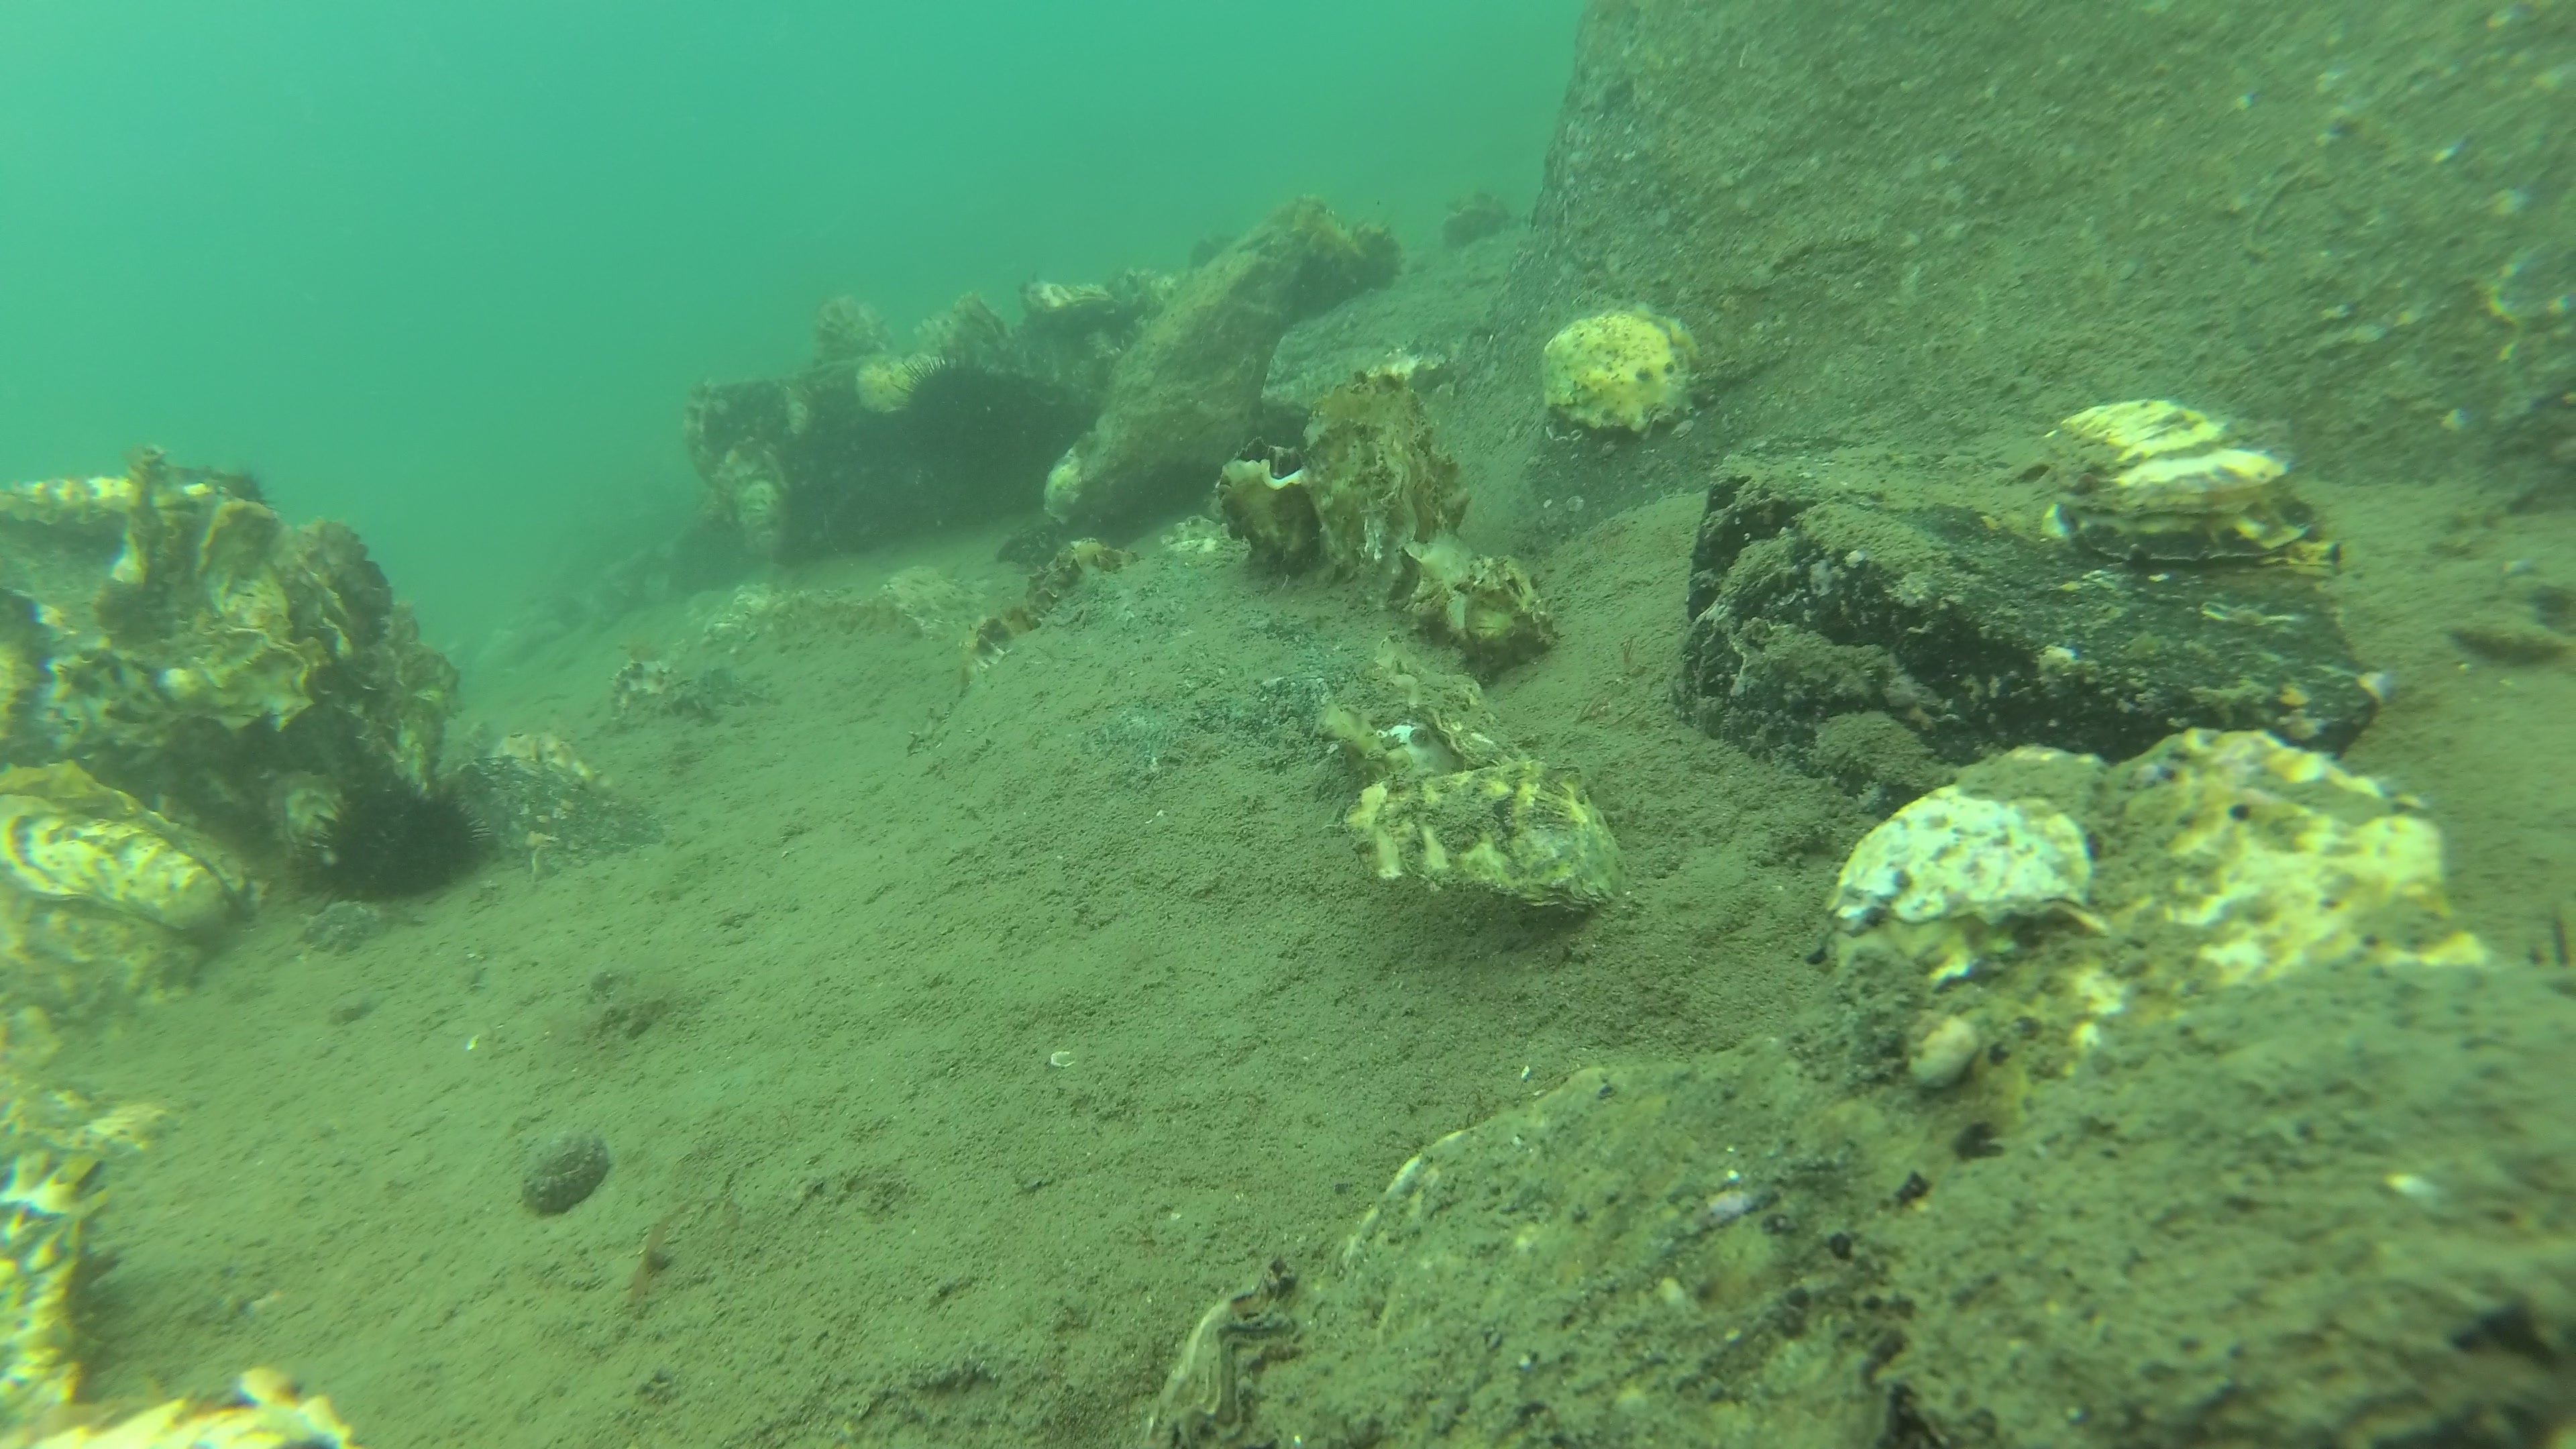echinus: (287, 770, 495, 911), (888, 347, 1031, 456)
